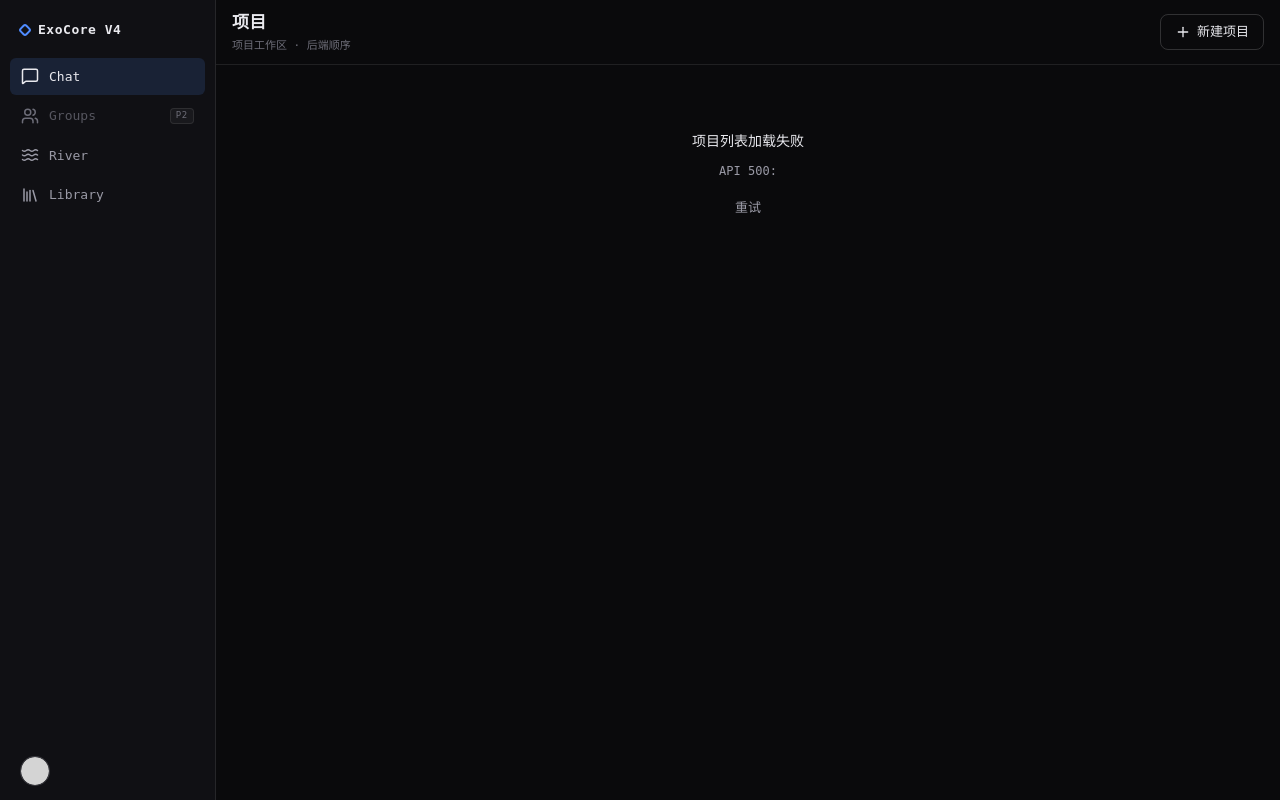
P2B Project Hub › network failure is distinguishable and retry recovers
Expected: the text "项目列表加载失败" is shown, [692, 131, 804, 152]
Click the button "重试" at (748, 208), box [720, 190, 776, 226]
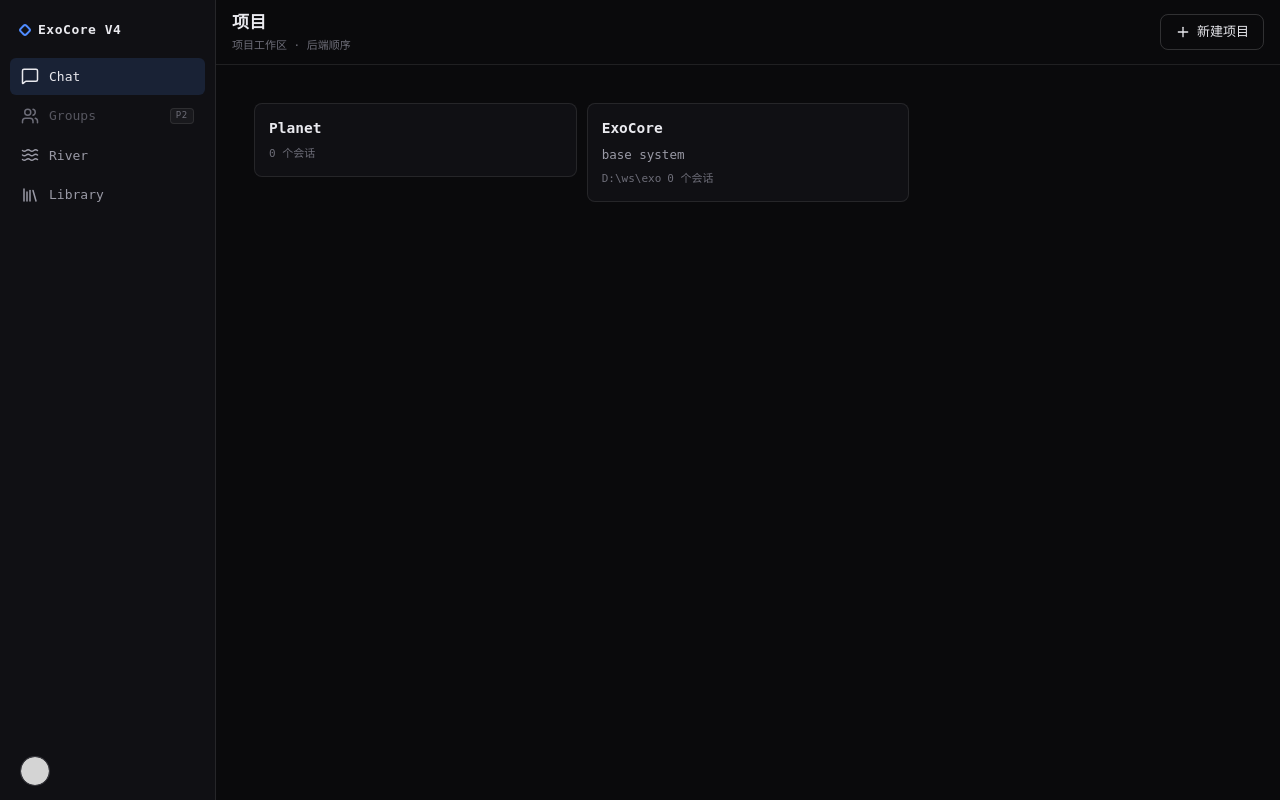
Result: the list named "项目列表" is shown at [254, 103, 909, 202]
